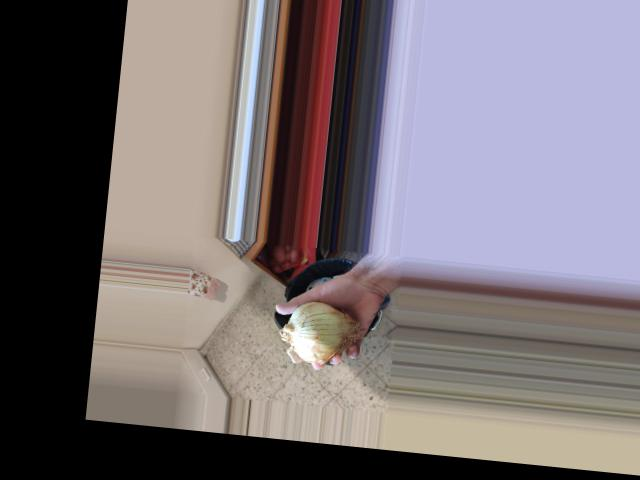onion: (281, 296, 363, 364)
